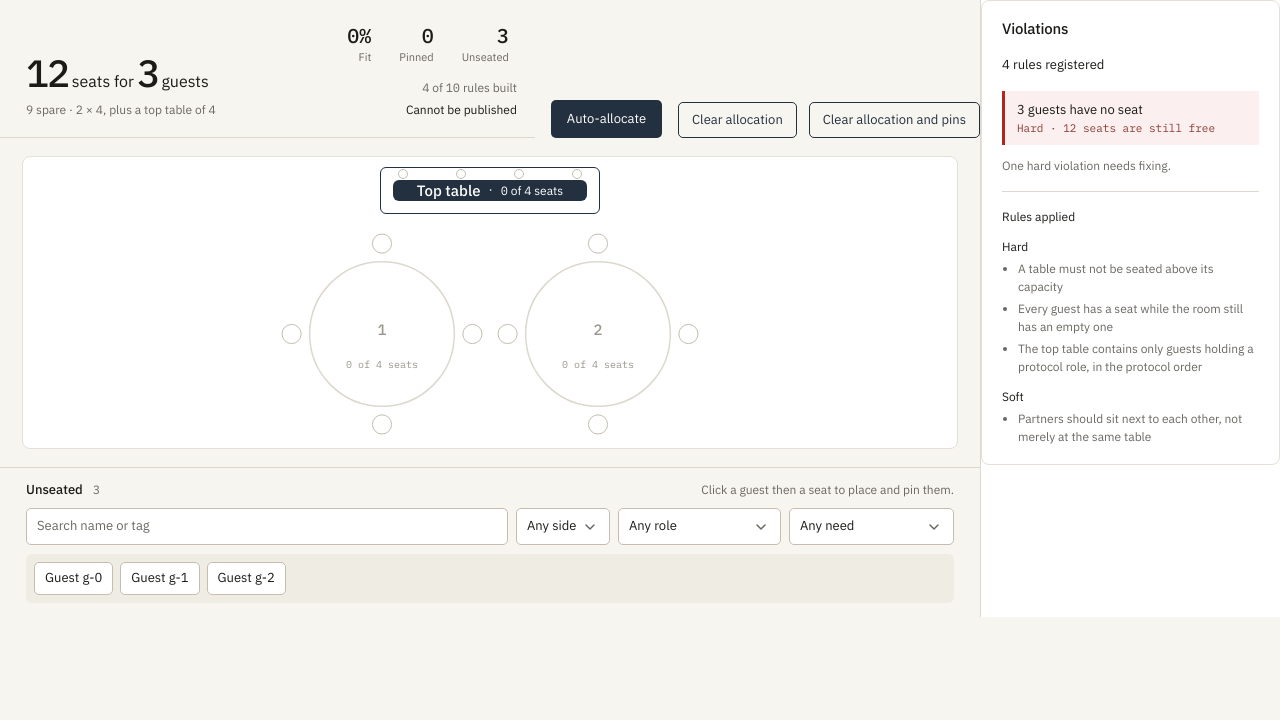
Test: PlanScreen — selecting a table opens its detail panel; dismissing returns the violations panel (TT-15, C1, C9) › clicking a table swaps the violations panel for that table's detail, marks the table selected, and the dismiss control returns the violations panel
Expected: the heading "Violations" is shown, x1=1002 y1=19 x2=1068 y2=38
Click the button "1 0 of 4 seats" at (382, 334), box x1=282 y1=234 x2=482 y2=434
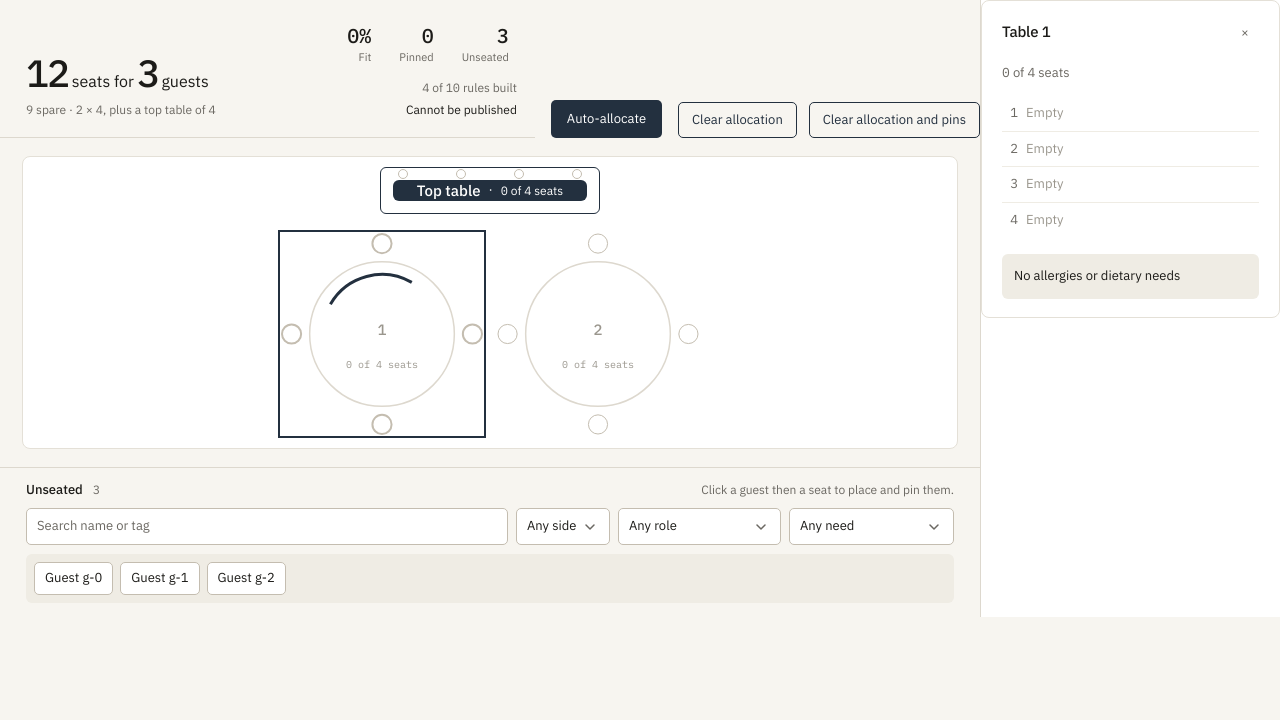
Result: the heading "Violations" is gone
Result: the heading "Table 1" is shown at x1=1002 y1=22 x2=1050 y2=41
Click the button named "Close table detail" at (1245, 33), box x1=1231 y1=19 x2=1259 y2=47
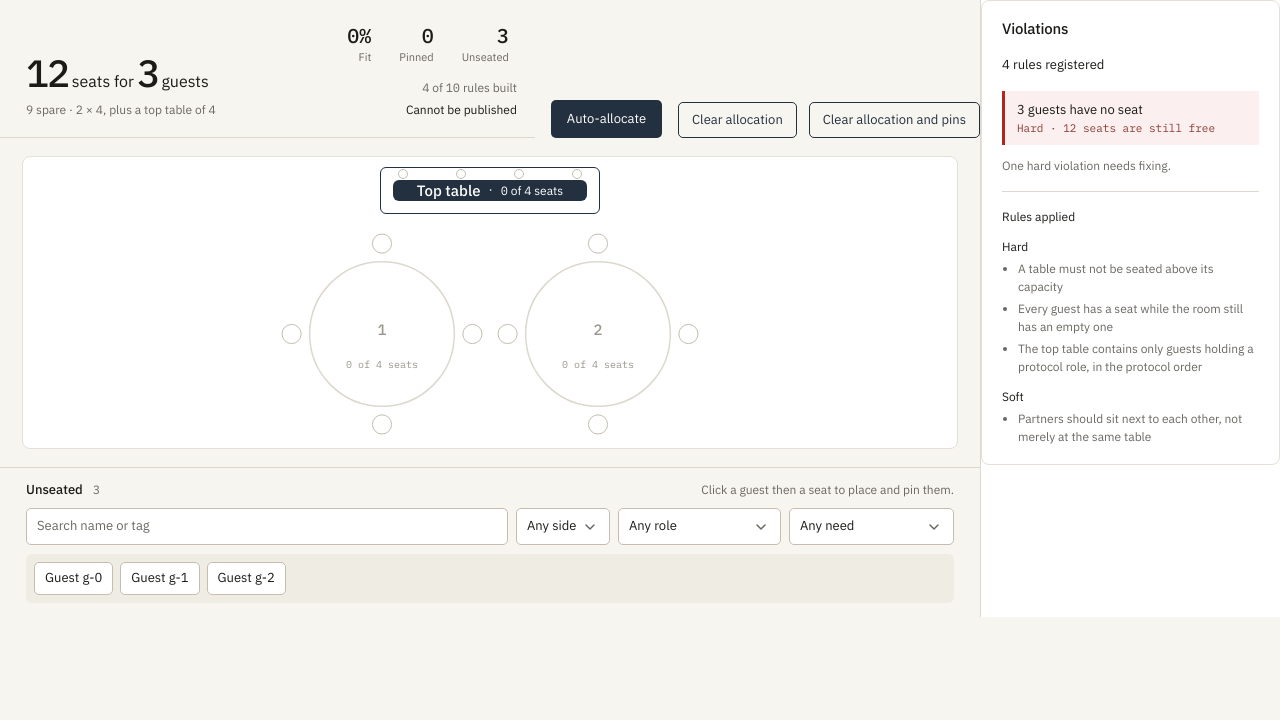
Result: the heading "Violations" is shown at x1=1002 y1=19 x2=1068 y2=38
